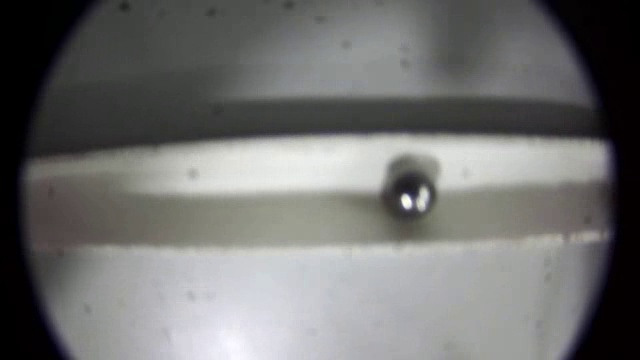gangzhu: (384, 175, 441, 221)
